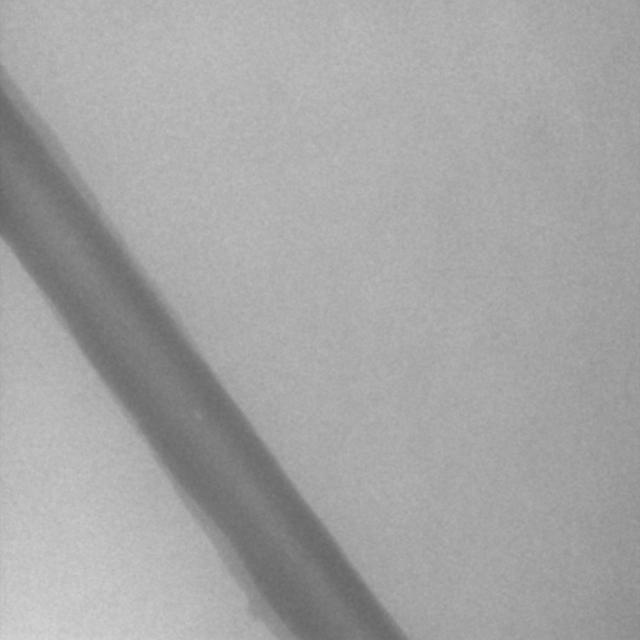air-hole: (194, 409, 203, 424)
